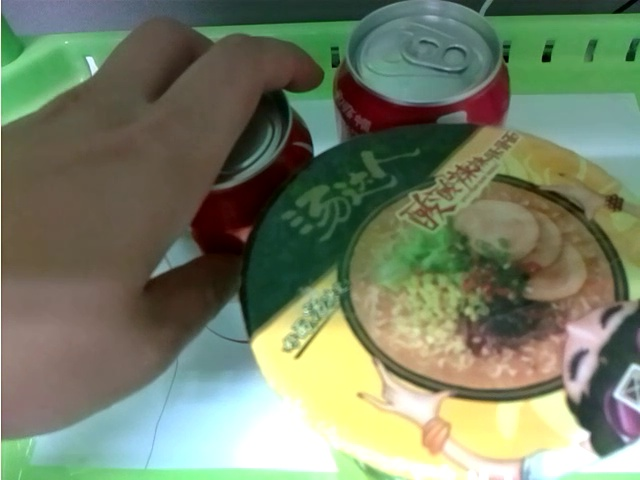cocacola: (334, 2, 511, 129), (194, 94, 317, 257)
hand: (1, 19, 323, 432)
noodles: (243, 128, 640, 480)
